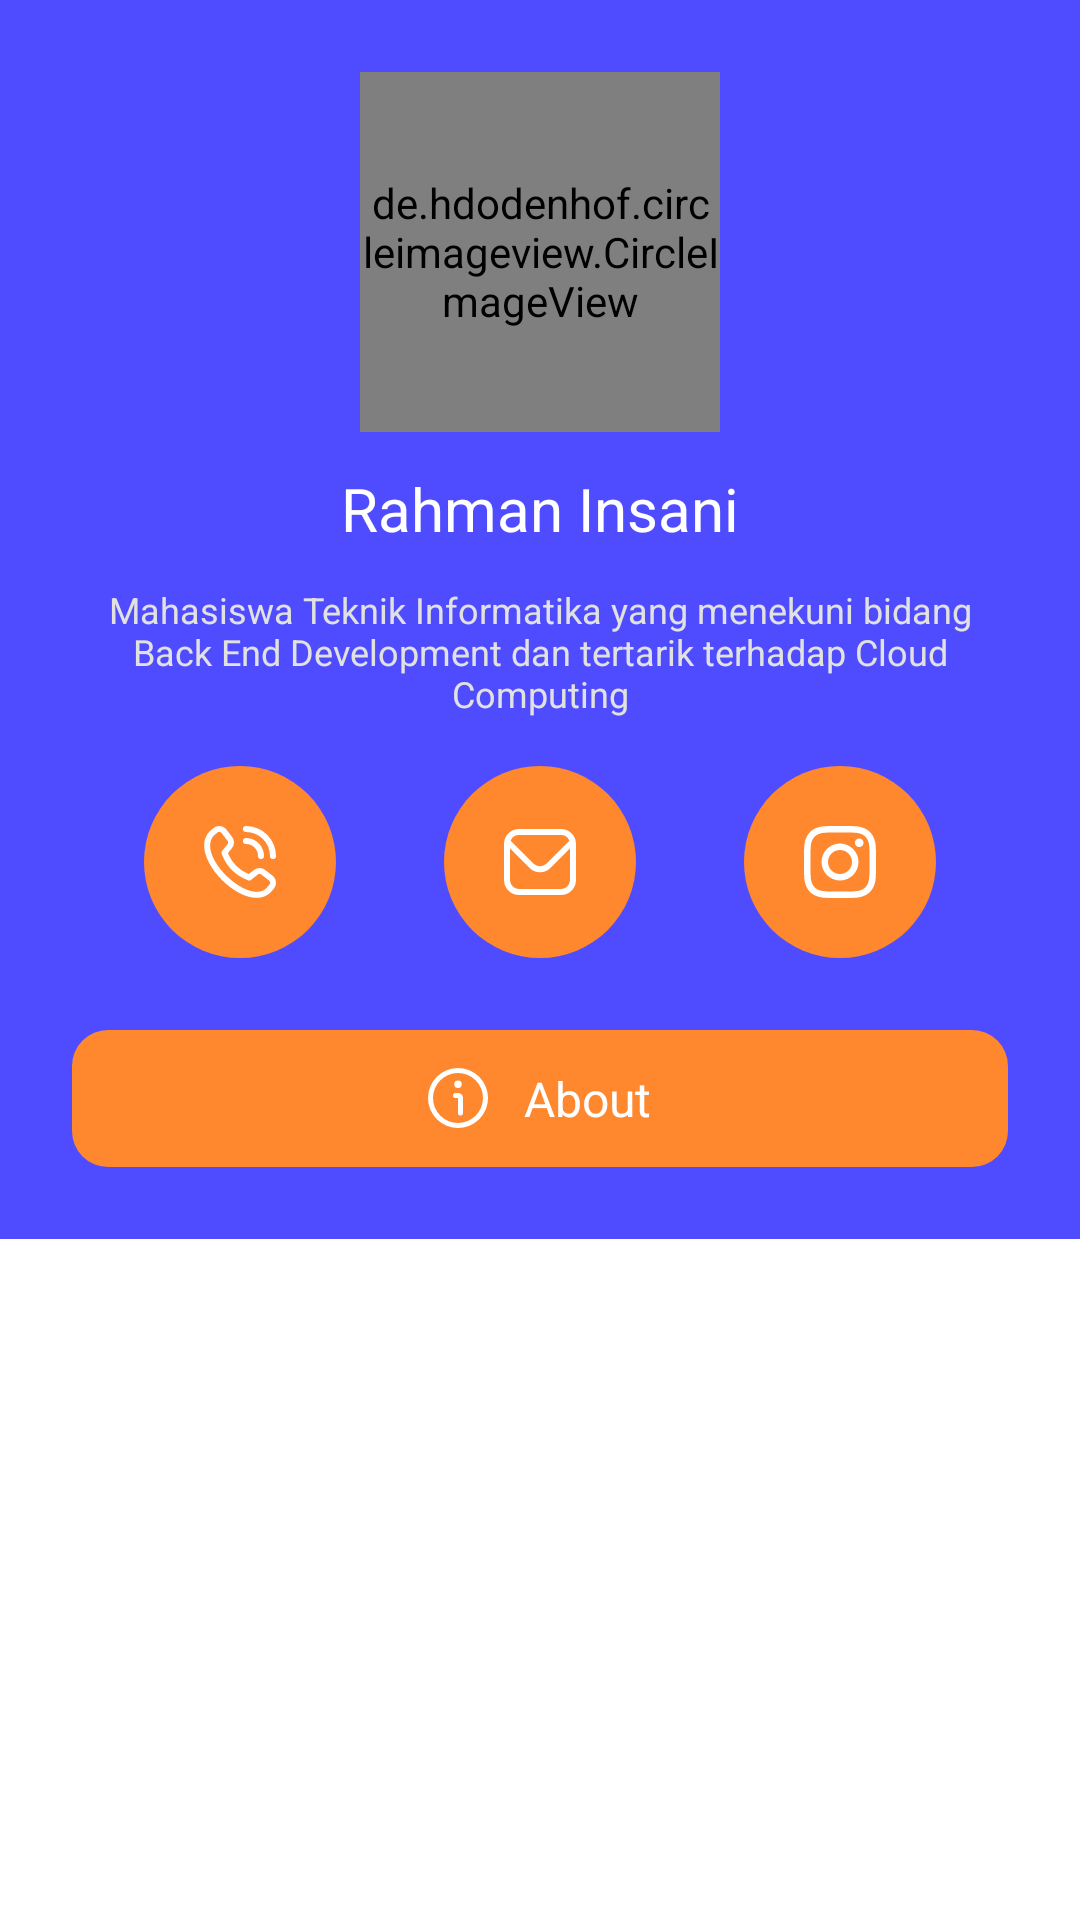

Icon bounding boxes for this 1080*1920 phone screenshot, format bbox(x1, y1, x2, y2):
profile email: bbox(504, 829, 576, 895)
profile info: bbox(428, 1068, 488, 1128)
profile phone: bbox(204, 826, 276, 898)
